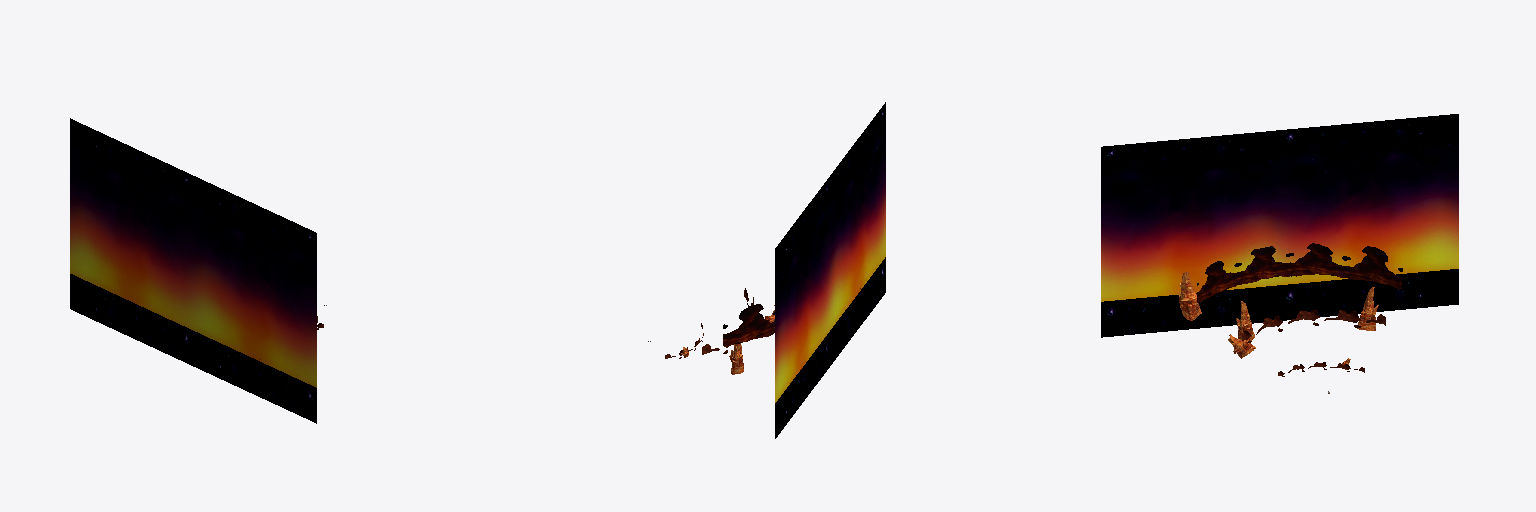
The picture shows the model from 3 angles: view 1: azimuth 30°, elevation 25°; view 2: azimuth 150°, elevation 25°; view 3: azimuth 270°, elevation 25°; orthographic projection.
Parts seen in each view (by area): view 1: UI_MainMenu; view 2: UI_MainMenu; view 3: UI_MainMenu.
Part boxes in pixels (bbox=[...]): UI_MainMenu: bbox=[70, 118, 326, 423]; UI_MainMenu: bbox=[648, 102, 885, 438]; UI_MainMenu: bbox=[1101, 114, 1458, 393].
Size of the model in its own units: 1143 by 1085 by 1844.
Materials: 20 (20 with a texture image).